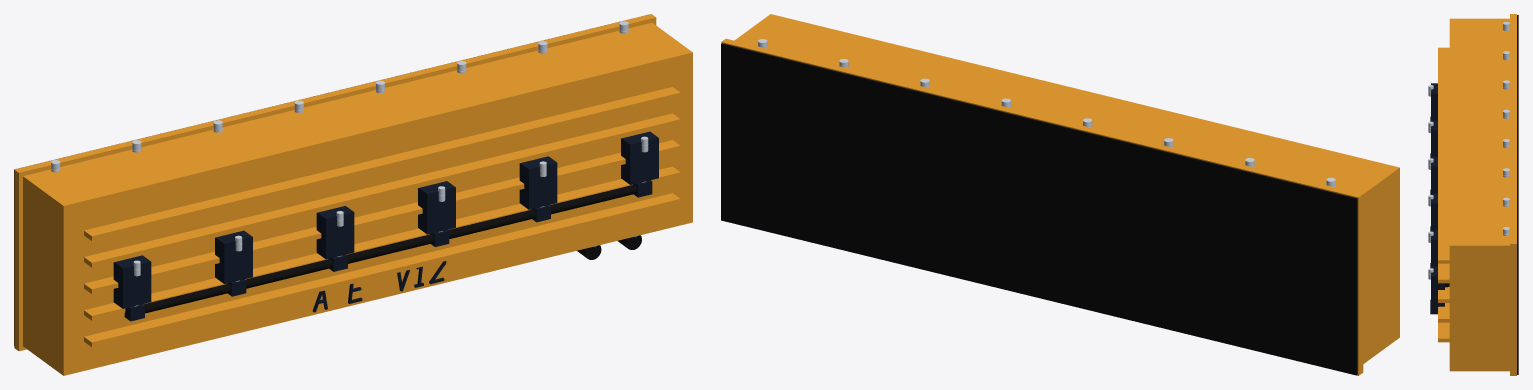
Rendered from valve-cover-right.glb.
3 renders of one model, left to right at view 1: azimuth 30°, elevation 25°; view 2: azimuth 150°, elevation 25°; view 3: azimuth 270°, elevation 25°, orthographic. The views are drawn at different scales.
Visible parts, largest first — view 1: Valve_Cover_Main_Billet_Shell, Longitudinal_Cooling_Fin_4, Longitudinal_Cooling_Fin_5, Longitudinal_Cooling_Fin_1, Perimeter_Gasket_Mating_Flange, Longitudinal_Cooling_Fin_3, Ignition_Coil_Harness_Loom, Longitudinal_Cooling_Fin_2, Smart_Ignition_Coil_Pack_1, Smart_Ignition_Coil_Pack_3, Smart_Ignition_Coil_Pack_5, Smart_Ignition_Coil_Pack_6 (+3 smaller); view 2: Molded_Viton_Perimeter_Gasket, Valve_Cover_Main_Billet_Shell, Perimeter_Gasket_Mating_Flange; view 3: Valve_Cover_Main_Billet_Shell, Longitudinal_Cooling_Fin_5, Perimeter_Gasket_Mating_Flange, Molded_Viton_Perimeter_Gasket, Smart_Ignition_Coil_Pack_6, Smart_Ignition_Coil_Pack_3, Longitudinal_Cooling_Fin_1, Longitudinal_Cooling_Fin_4, Smart_Ignition_Coil_Pack_1, Smart_Ignition_Coil_Pack_2, Smart_Ignition_Coil_Pack_4, Smart_Ignition_Coil_Pack_5 (+2 smaller).
Boxes of the visible parts, box(x1,y1,x2,y2) form: Valve_Cover_Main_Billet_Shell: box(23, 22, 692, 375); Longitudinal_Cooling_Fin_4: box(84, 113, 680, 267); Longitudinal_Cooling_Fin_5: box(84, 87, 680, 240); Longitudinal_Cooling_Fin_1: box(84, 193, 680, 347); Perimeter_Gasket_Mating_Flange: box(14, 14, 656, 351); Longitudinal_Cooling_Fin_3: box(84, 140, 680, 293); Ignition_Coil_Harness_Loom: box(144, 184, 637, 313); Longitudinal_Cooling_Fin_2: box(84, 166, 680, 320); Smart_Ignition_Coil_Pack_1: box(113, 255, 151, 308); Smart_Ignition_Coil_Pack_3: box(316, 206, 354, 259); Smart_Ignition_Coil_Pack_5: box(519, 156, 557, 209); Smart_Ignition_Coil_Pack_6: box(621, 131, 658, 184); Molded_Viton_Perimeter_Gasket: box(721, 43, 1357, 375); Valve_Cover_Main_Billet_Shell: box(734, 14, 1399, 363); Perimeter_Gasket_Mating_Flange: box(721, 38, 1363, 375); Valve_Cover_Main_Billet_Shell: box(1449, 18, 1509, 371); Longitudinal_Cooling_Fin_5: box(1438, 47, 1449, 263); Perimeter_Gasket_Mating_Flange: box(1510, 14, 1516, 375); Molded_Viton_Perimeter_Gasket: box(1517, 15, 1518, 374); Smart_Ignition_Coil_Pack_6: box(1431, 266, 1444, 306); Smart_Ignition_Coil_Pack_3: box(1431, 156, 1437, 193); Longitudinal_Cooling_Fin_1: box(1438, 322, 1449, 342); Longitudinal_Cooling_Fin_4: box(1438, 263, 1449, 283); Smart_Ignition_Coil_Pack_1: box(1431, 83, 1437, 119); Smart_Ignition_Coil_Pack_2: box(1431, 120, 1437, 156); Smart_Ignition_Coil_Pack_4: box(1431, 193, 1437, 229); Smart_Ignition_Coil_Pack_5: box(1431, 230, 1437, 266).
Size of the model in its own units: 0.628 by 0.188 by 0.1041.
